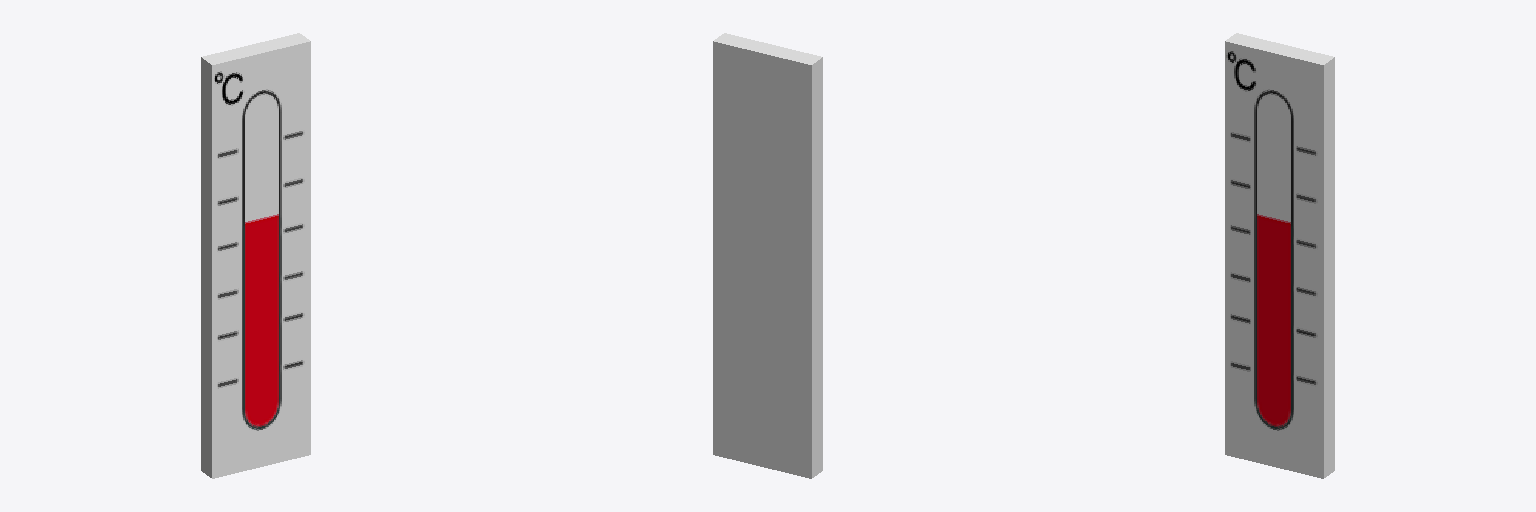
3 renders of one model, left to right at view 1: azimuth 30°, elevation 25°; view 2: azimuth 150°, elevation 25°; view 3: azimuth 330°, elevation 25°, orthographic.
Visible parts, largest first — view 1: thermometer; view 2: thermometer; view 3: thermometer.
Part boxes in pixels (left/top/right/bottom): thermometer: left=201, top=33, right=310, bottom=478; thermometer: left=713, top=33, right=822, bottom=478; thermometer: left=1225, top=33, right=1334, bottom=478.
Bounding box in the file's own units: 2 × 8 × 0.4.
Materials: 2 (1 with a texture image).